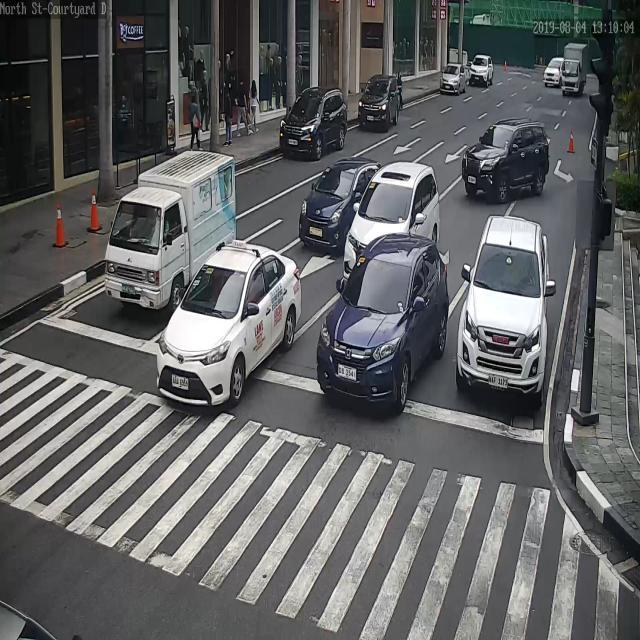car: (156, 242, 301, 408), (316, 235, 449, 405), (460, 217, 549, 401), (299, 160, 381, 253), (462, 116, 550, 199), (279, 86, 348, 161), (355, 73, 401, 128), (440, 63, 467, 94), (469, 54, 494, 87), (543, 58, 563, 85)
truck: (561, 42, 588, 96)
van: (102, 145, 235, 310), (343, 164, 439, 281)
